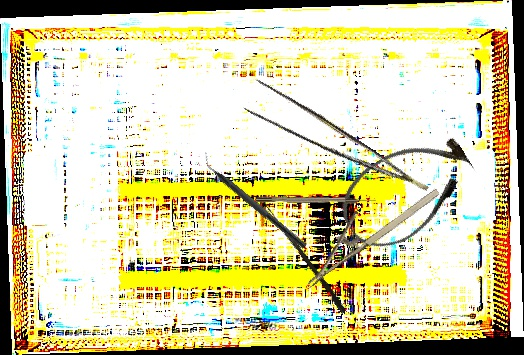Cannula: (327, 119, 488, 263)
Chopper: (196, 150, 313, 250)
Hook Surgical: (254, 196, 349, 314), (255, 195, 377, 205)
Needle Holder: (287, 166, 443, 290)
Tissue Forceps: (235, 71, 429, 219)
